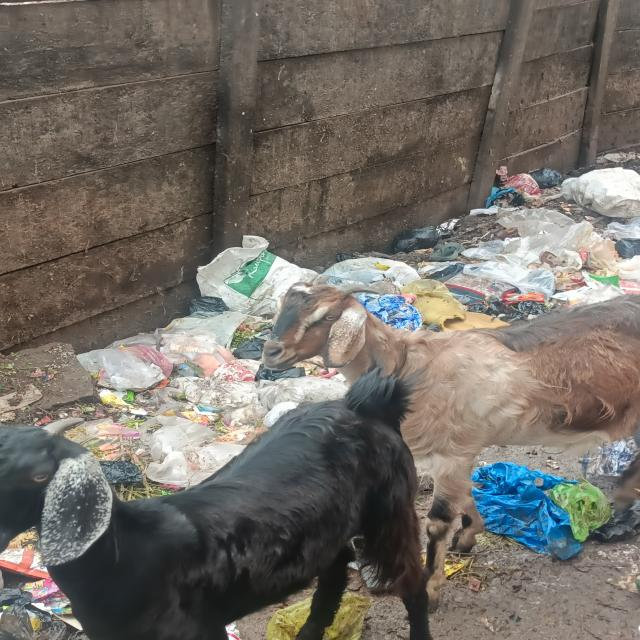garbage: (217, 160, 640, 324), (72, 318, 365, 486)
